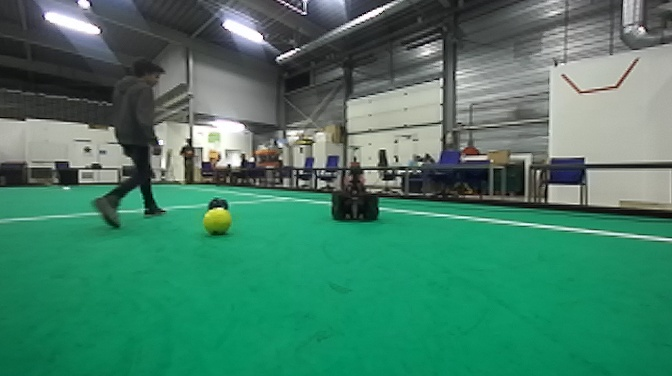ball: (203, 207, 230, 237), (206, 197, 227, 210)
human: (96, 57, 179, 233)
robot: (328, 140, 383, 226)
